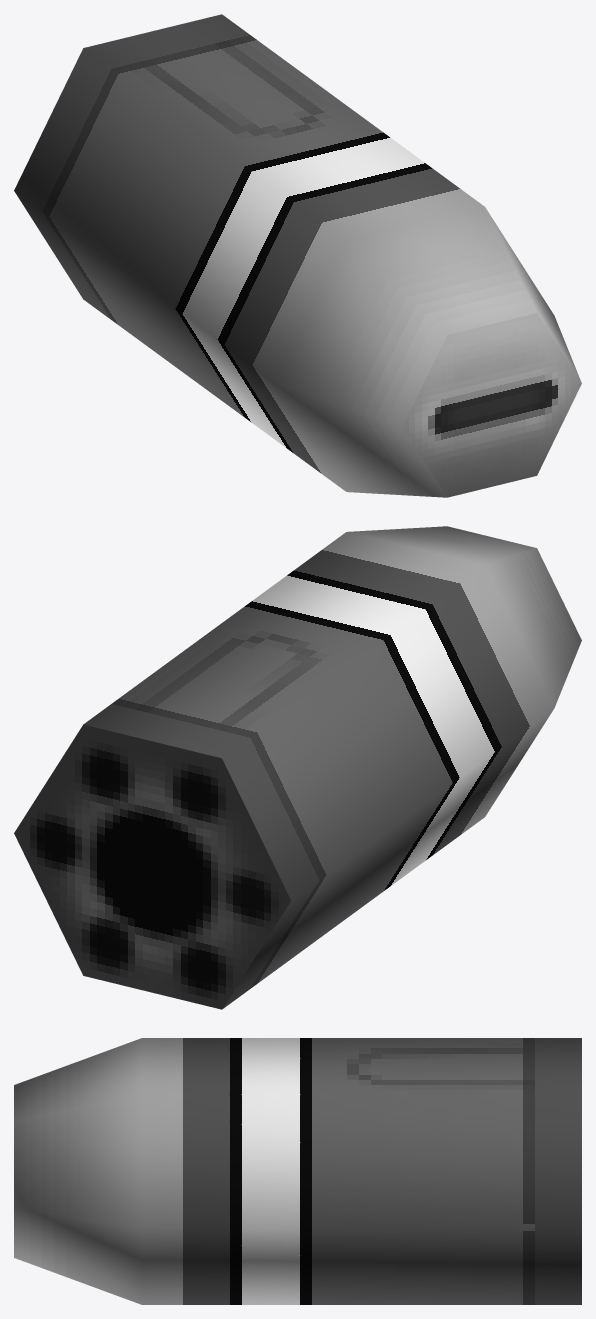
Rendered from projectile_shell.fbx.
3 views of the same model, one above another, from view 1: azimuth 30°, elevation 25°; view 2: azimuth 150°, elevation 25°; view 3: azimuth 270°, elevation 25° (orthographic). The views are drawn at different scales.
Parts seen in each view (by area): view 1: shell; view 2: shell; view 3: shell.
Part boxes in pixels (x1,y1,x2,y2): shell: [14, 14, 581, 497]; shell: [14, 526, 581, 1009]; shell: [14, 1038, 581, 1304].
Size of the model in its own units: 0.0678 by 0.0587 by 0.1438.
1 material, 1 textured.
